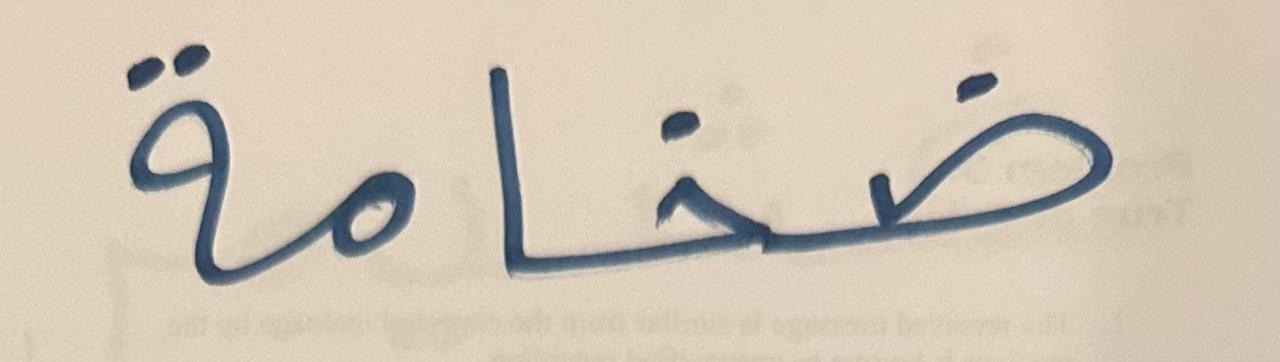alef: (447, 6, 553, 329)
dad: (794, 12, 1147, 307)
lam: (556, 25, 789, 326)
noon: (264, 45, 443, 325)
thal: (100, 23, 258, 317)
